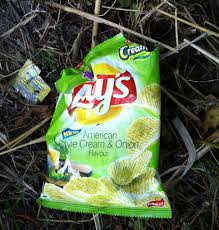plastic: (37, 28, 177, 219)
wrapper: (40, 30, 172, 217), (85, 32, 166, 125), (93, 123, 172, 217), (34, 125, 95, 210), (45, 43, 97, 138), (12, 59, 56, 100), (14, 58, 48, 101)
